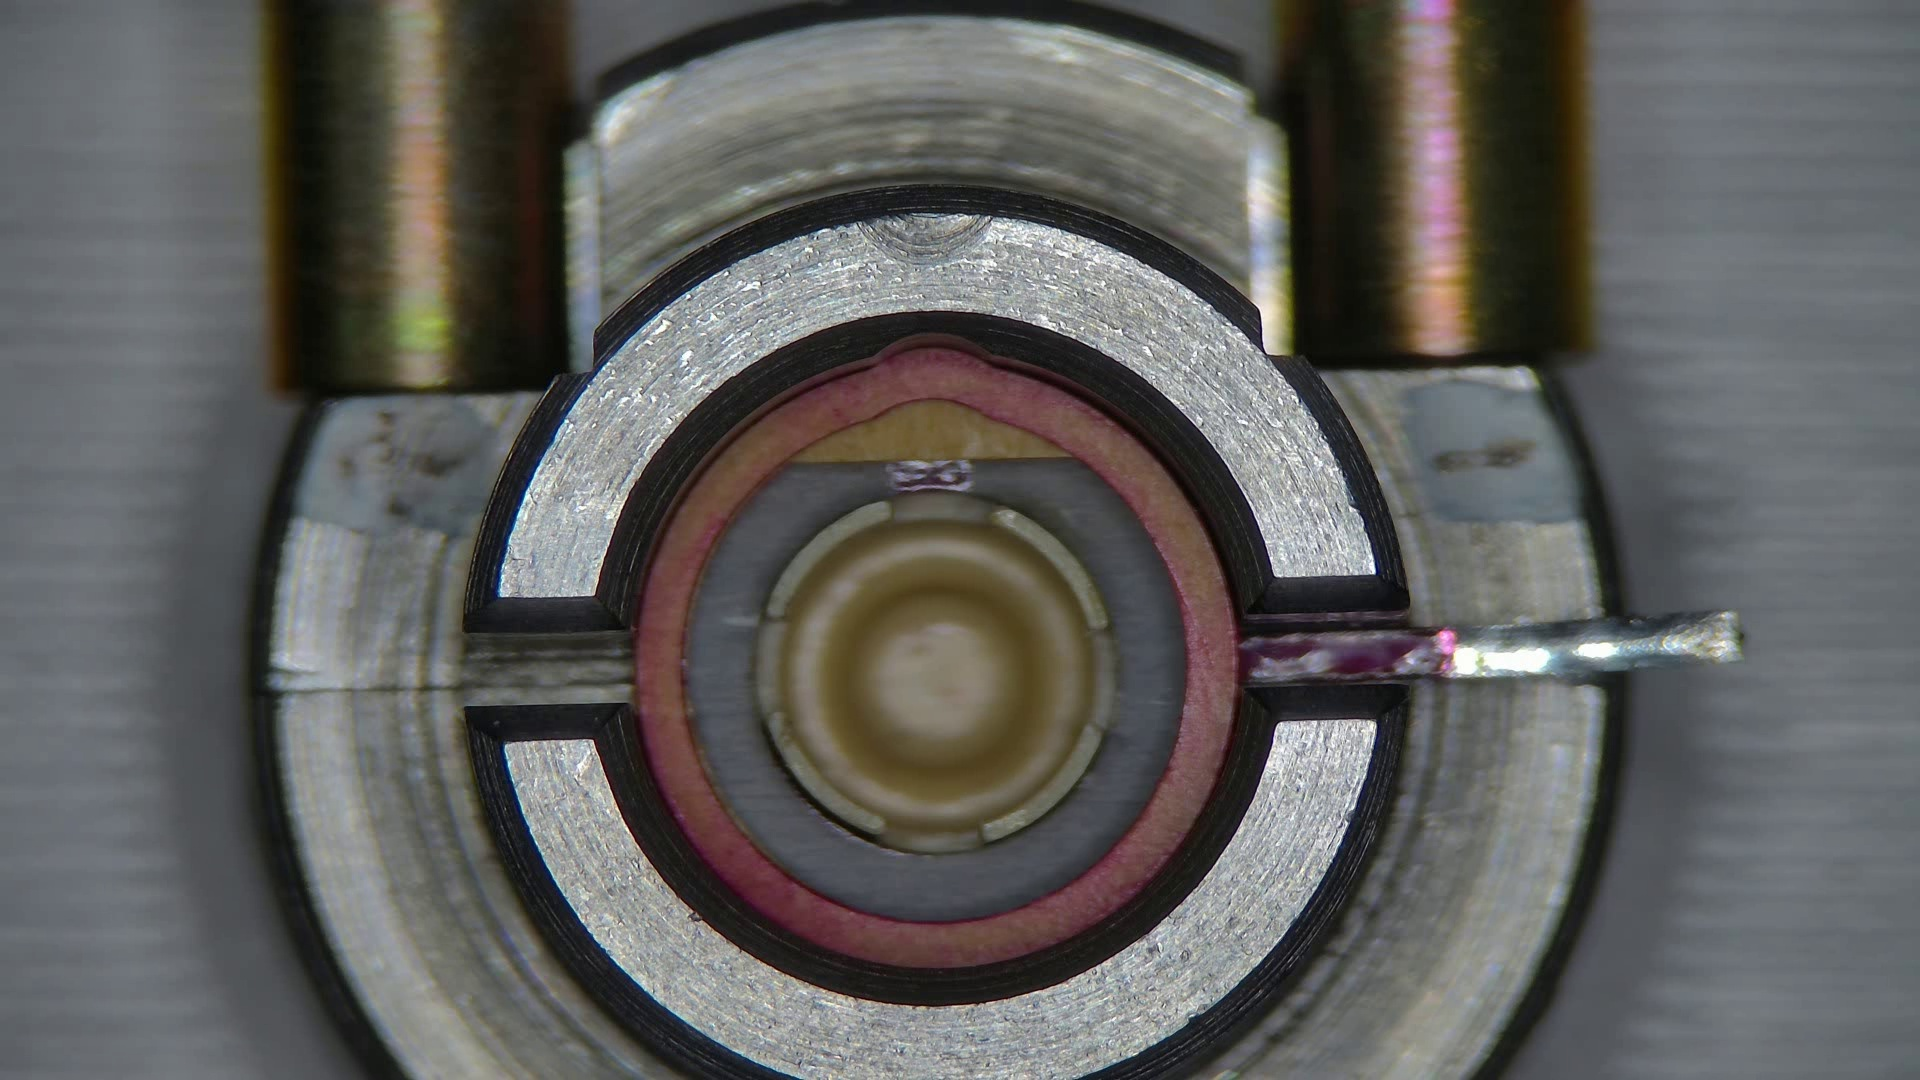GreyOring: (636, 345, 1240, 968)
YellowOring: (688, 458, 1184, 919)
redOring: (793, 402, 1068, 465)
